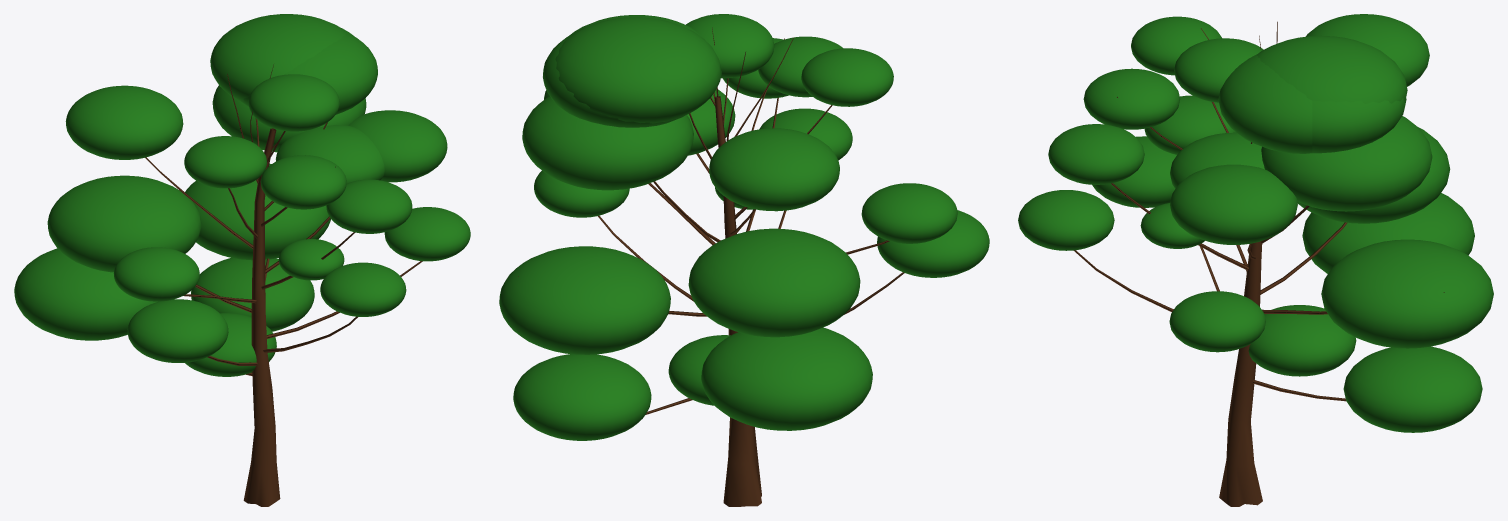
Rendered from tree_one.fbx.
3 views of the same model, side by side, from view 1: azimuth 30°, elevation 25°; view 2: azimuth 150°, elevation 25°; view 3: azimuth 270°, elevation 25° (orthographic). The views are drawn at different scales.
Visible parts, largest first — view 1: Foliage001; view 2: Foliage001; view 3: Foliage001.
Part boxes in pixels (bbox=[...]): Foliage001: bbox=[14, 14, 470, 506]; Foliage001: bbox=[499, 14, 989, 506]; Foliage001: bbox=[1018, 14, 1493, 506].
Size of the model in its own units: 377 by 427 by 381.
